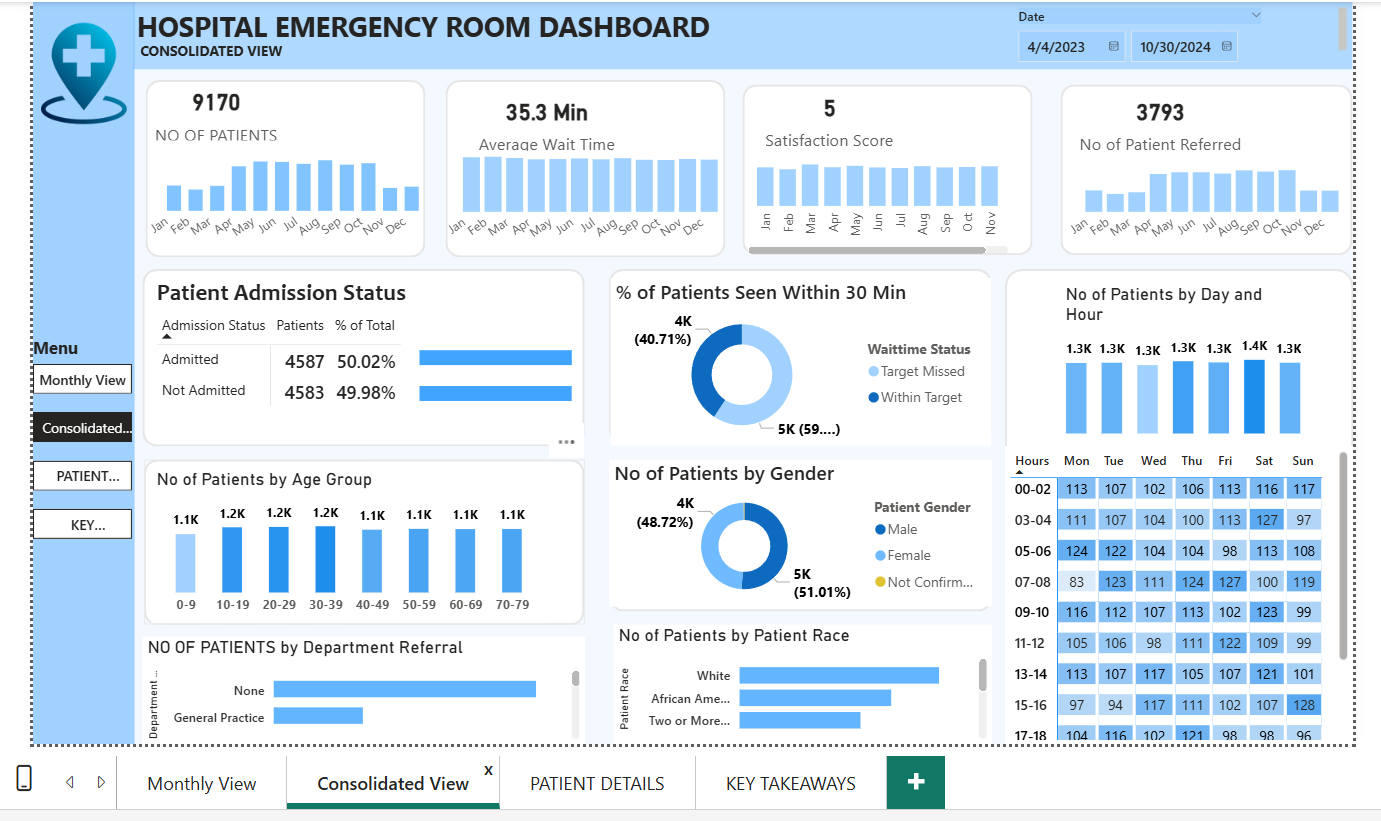

What the dashboard file says about the page in this screenshot:
{"tool":"powerbi","page":{"name":"Consolidated View","canvas":[1280,720],"ordinal":1},"visuals":[{"type":"shape","box":[0,0,98.6,720],"z":0},{"type":"shape","box":[109.3,76.2,271.7,172.3],"z":1000},{"type":"shape","box":[97.7,0,1182.8,65.5],"z":2000},{"type":"textbox","box":[96.6,0,1183.6,64.7],"z":3000},{"type":"textbox","box":[98.8,32.5,150,32.5],"z":4000},{"type":"card","fields":{"Values":["Hospital ER_Data.NO OF PATIENTS"]},"box":[106.2,76.2,142.5,63.8],"z":5000},{"type":"columnChart","fields":{"Category":["Date Table.Month name"],"Y":["Hospital ER_Data.NO OF PATIENTS"]},"box":[105.7,117.1,281.4,132.9],"z":6000},{"type":"shape","box":[400.9,76.2,271.7,172.3],"z":7000},{"type":"shape","box":[997.2,79.5,283.3,165.6],"z":8000},{"type":"shape","box":[689.1,79.5,281.6,165.6],"z":9000},{"type":"card","fields":{"Values":["Hospital ER_Data.Satisfaction Score"]},"box":[701.7,80,141.7,65],"z":10000},{"type":"card","fields":{"Values":["Hospital ER_Data.No of Patient Referred"]},"box":[996.7,85,193.3,65],"z":11000},{"type":"card","fields":{"Values":["Hospital ER_Data.Average Wait Time"]},"box":[401.7,85,193.3,65],"z":12000},{"type":"shape","box":[106,258.4,429,172.3],"z":13000},{"type":"columnChart","fields":{"Category":["Date Table.Month name"],"Y":["Avg(Hospital ER_Data.Patient Waittime)"]},"box":[394.2,130.9,283.3,119.3],"z":14000},{"type":"columnChart","fields":{"Category":["Date Table.Month name"],"Y":["Hospital ER_Data.Satisfaction Score"]},"box":[688.8,138.8,262.5,111.2],"z":15000},{"type":"columnChart","fields":{"Category":["Date Table.Month name"],"Y":["Hospital ER_Data.No of Patient Referred"]},"box":[998.9,130.9,281.6,119.3],"z":16000},{"type":"pivotTable","title":"Patient Admission Status","fields":{"Rows":["Hospital ER_Data.Admission Status"],"Values":["Hospital ER_Data.NO OF PATIENTS1","Hospital ER_Data.NO OF PATIENTS"]},"box":[115,268.3,266.7,143.3],"z":17000},{"type":"barChart","fields":{"Category":["Hospital ER_Data.Admission Status"],"Y":["Hospital ER_Data.NO OF PATIENTS"]},"box":[370,306.7,203.3,105],"z":18000},{"type":"shape","box":[107.7,443.9,427.4,160.7],"z":19000},{"type":"shape","box":[558.2,258.4,371.1,169],"z":20000},{"type":"clusteredColumnChart","title":"No of Patients by Age Group","fields":{"Category":["Hospital ER_Data.Age Group"],"Y":["Hospital ER_Data.NO OF PATIENTS"]},"box":[115,453.3,383.3,150],"z":21000},{"type":"clusteredBarChart","fields":{"Category":["Hospital ER_Data.Patient Race"],"Y":["Hospital ER_Data.NO OF PATIENTS"]},"box":[562.9,604.3,367.1,115.7],"z":22000},{"type":"shape","box":[559.9,443.9,369.4,147.4],"z":23000},{"type":"donutChart","title":"% of Patients Seen Within 30 Min","fields":{"Category":["Hospital ER_Data.Waittime Status"],"Y":["Hospital ER_Data.NO OF PATIENTS"]},"box":[559.9,268.3,369.4,162.3],"z":24000},{"type":"donutChart","title":"No of Patients by Gender","fields":{"Y":["Hospital ER_Data.NO OF PATIENTS"],"Category":["Hospital ER_Data.Patient Gender"]},"box":[558.2,443.9,371.1,142.5],"z":25000},{"type":"clusteredBarChart","fields":{"Category":["Hospital ER_Data.Department Referral"],"Y":["Hospital ER_Data.NO OF PATIENTS"]},"box":[106,616.2,429,104.4],"z":26000},{"type":"shape","box":[942.5,258.4,337.9,462.2],"z":27000},{"type":"pivotTable","fields":{"Rows":["Hospital ER_Data.Waittime Interval"],"Columns":["Date Table.Day Nmae"],"Values":["Hospital ER_Data.NO OF PATIENTS"]},"box":[942.5,430.7,337.9,289.9],"z":28000},{"type":"columnChart","title":"No of Patients by Day and Hour","fields":{"Category":["Date Table.Day Nmae"],"Y":["Hospital ER_Data.NO OF PATIENTS"]},"box":[997.2,273.3,238.5,150.7],"z":29000},{"type":"image","box":[0,0,98.6,138.6],"z":30000},{"type":"slicer","fields":{"Values":["Date Table.Date"]},"box":[942.9,0,261.4,64.3],"z":31000},{"type":"pageNavigator","title":"Menu","box":[0,325,96.7,200],"z":31001}]}

Visuals, with their boxes on the page's 1280x720 design canvas (x1, y1, x2, y2). These are canvas units, not pixel positions in the 1381x821 screenshot, which may show the page scaled, cropped or inside an application window:
shape: x1=0, y1=0, x2=99, y2=720
shape: x1=109, y1=76, x2=381, y2=248
shape: x1=98, y1=0, x2=1280, y2=66
textbox: x1=97, y1=0, x2=1280, y2=65
textbox: x1=99, y1=32, x2=249, y2=65
card - Hospital ER_Data.NO OF PATIENTS: x1=106, y1=76, x2=249, y2=140
columnChart - Date Table.Month name x Hospital ER_Data.NO OF PATIENTS: x1=106, y1=117, x2=387, y2=250
shape: x1=401, y1=76, x2=673, y2=248
shape: x1=997, y1=80, x2=1280, y2=245
shape: x1=689, y1=80, x2=971, y2=245
card - Hospital ER_Data.Satisfaction Score: x1=702, y1=80, x2=843, y2=145
card - Hospital ER_Data.No of Patient Referred: x1=997, y1=85, x2=1190, y2=150
card - Hospital ER_Data.Average Wait Time: x1=402, y1=85, x2=595, y2=150
shape: x1=106, y1=258, x2=535, y2=431
columnChart - Date Table.Month name x Avg(Hospital ER_Data.Patient Waittime): x1=394, y1=131, x2=678, y2=250
columnChart - Date Table.Month name x Hospital ER_Data.Satisfaction Score: x1=689, y1=139, x2=951, y2=250
columnChart - Date Table.Month name x Hospital ER_Data.No of Patient Referred: x1=999, y1=131, x2=1280, y2=250
"Patient Admission Status" pivotTable: x1=115, y1=268, x2=382, y2=412
barChart - Hospital ER_Data.Admission Status x Hospital ER_Data.NO OF PATIENTS: x1=370, y1=307, x2=573, y2=412
shape: x1=108, y1=444, x2=535, y2=605
shape: x1=558, y1=258, x2=929, y2=427
"No of Patients by Age Group" clusteredColumnChart: x1=115, y1=453, x2=498, y2=603
clusteredBarChart - Hospital ER_Data.Patient Race x Hospital ER_Data.NO OF PATIENTS: x1=563, y1=604, x2=930, y2=720
shape: x1=560, y1=444, x2=929, y2=591
"% of Patients Seen Within 30 Min" donutChart: x1=560, y1=268, x2=929, y2=431
"No of Patients by Gender" donutChart: x1=558, y1=444, x2=929, y2=586
clusteredBarChart - Hospital ER_Data.Department Referral x Hospital ER_Data.NO OF PATIENTS: x1=106, y1=616, x2=535, y2=721
shape: x1=942, y1=258, x2=1280, y2=721
pivotTable - Hospital ER_Data.Waittime Interval x Date Table.Day Nmae: x1=942, y1=431, x2=1280, y2=721
"No of Patients by Day and Hour" columnChart: x1=997, y1=273, x2=1236, y2=424
image: x1=0, y1=0, x2=99, y2=139
slicer - Date Table.Date: x1=943, y1=0, x2=1204, y2=64
"Menu" pageNavigator: x1=0, y1=325, x2=97, y2=525
